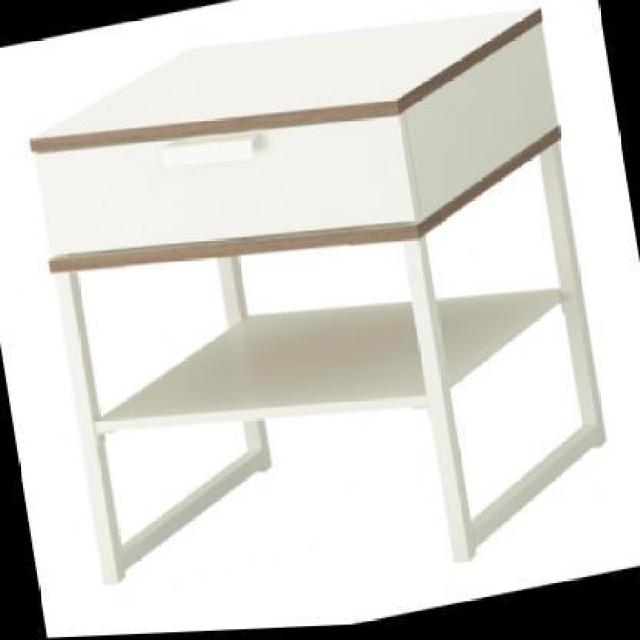tables: (26, 2, 608, 583)
